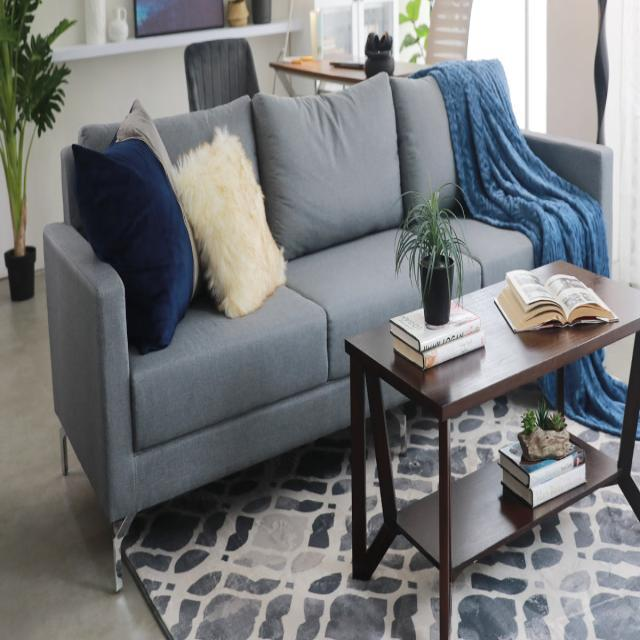sofa: (41, 64, 614, 592)
